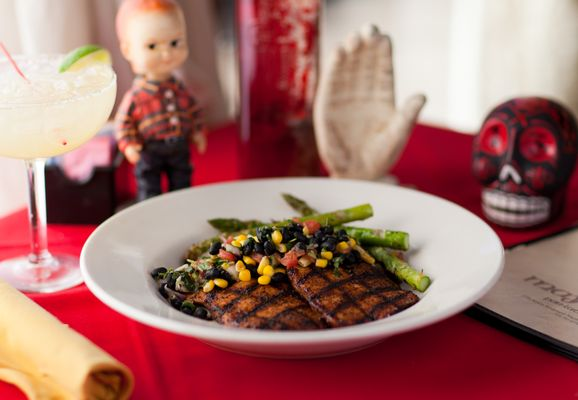pizza: (312, 28, 428, 180)
sushi: (79, 176, 528, 368)
